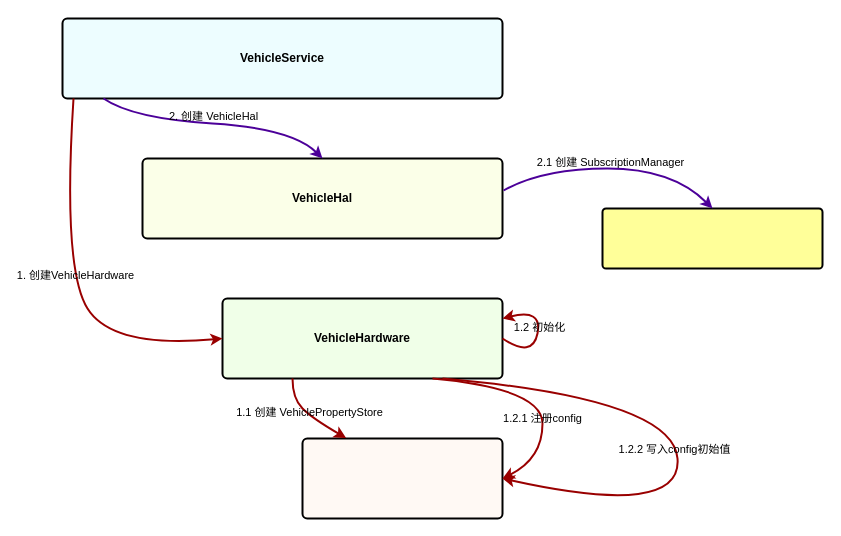
Image size: 841x536. Some labels were removed from this diagram. The box of each missing label's shape, as (x1, y1, x2, y2) in pixels:
SubscriptionManager: (601, 207, 823, 269)
VehiclePropertyStore: (301, 437, 503, 519)
